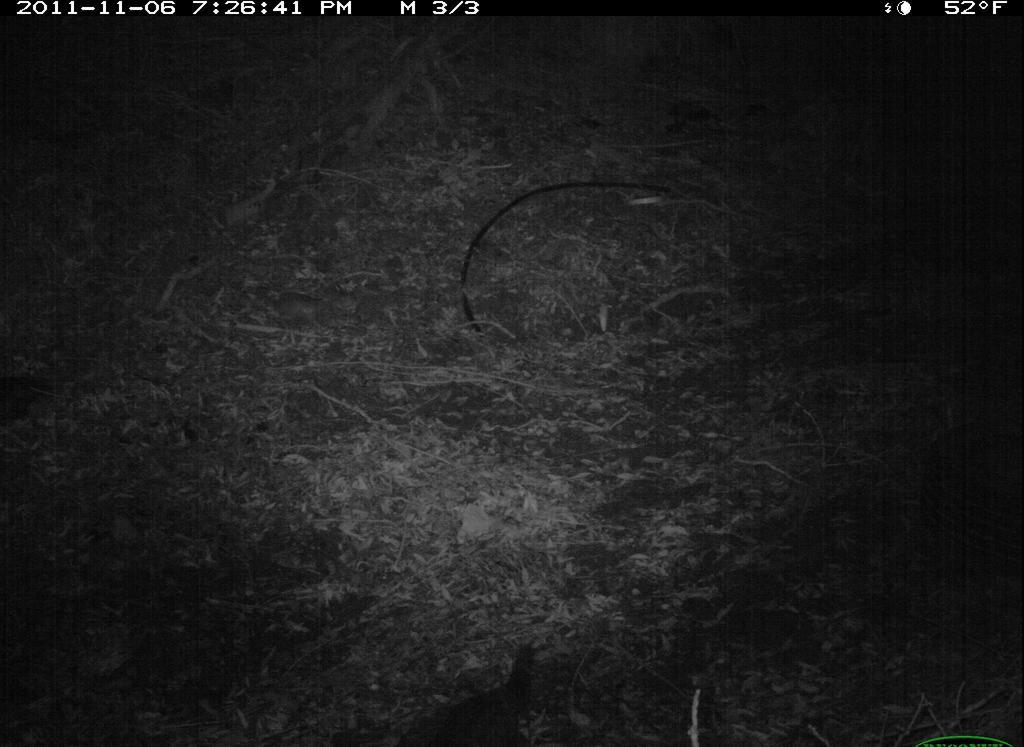cat: (396, 633, 559, 747)
